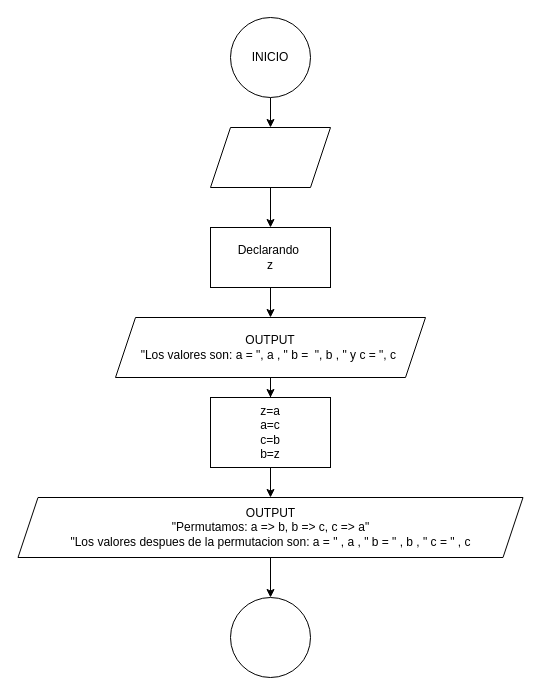
Some shapes in this 540 by 695 pixel diagram are drawn without their labels. Here are the shapes that lost their labels. From the top down, the centre of each, then its label:
At [270,157]: "INPUT a,b,c".
At [270,637]: "FIN".
